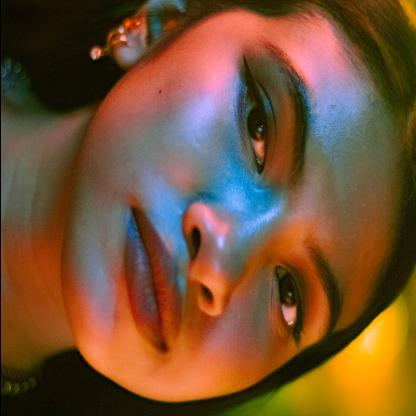Eye: (230, 50, 278, 172), (265, 252, 311, 356)
Mouth: (113, 201, 189, 363)
Nose: (182, 203, 274, 317)
